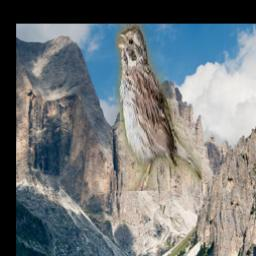Sparrow: (115, 24, 202, 191)
